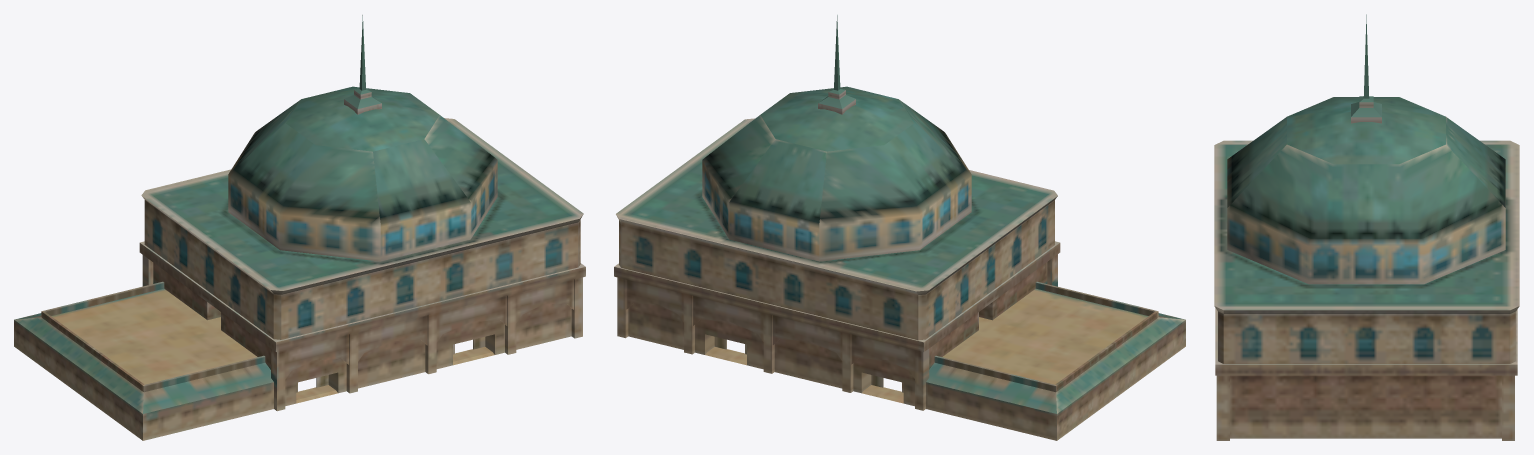
File: mun_nboo_hospital_s01_r0_mesh_l2.fbx
3 renders of one model, left to right at view 1: azimuth 30°, elevation 25°; view 2: azimuth 150°, elevation 25°; view 3: azimuth 270°, elevation 25°, orthographic. The views are drawn at different scales.
Parts seen in each view (by area): view 1: mesh_node; view 2: mesh_node; view 3: mesh_node.
Part boxes in pixels (left/top/right/bottom): mesh_node: left=14, top=15, right=585, bottom=440; mesh_node: left=614, top=15, right=1185, bottom=440; mesh_node: left=1214, top=14, right=1519, bottom=440.
Bounding box in the file's own units: 94.25 × 63.41 × 51.01.
